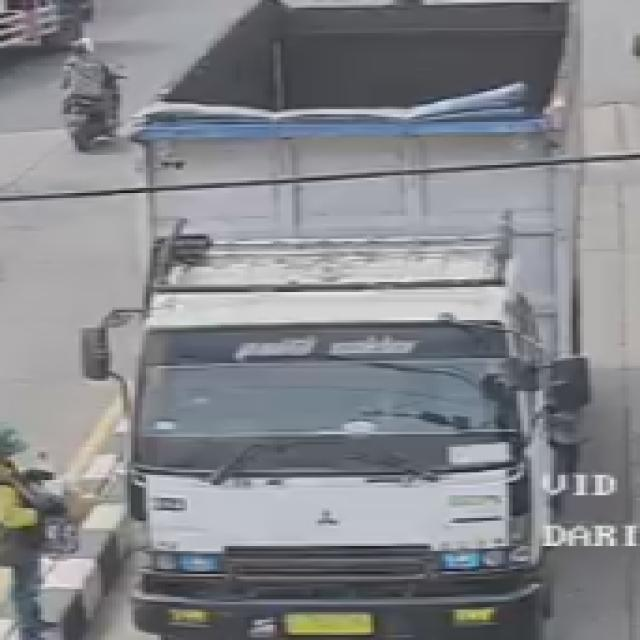truck: (102, 7, 610, 631)
